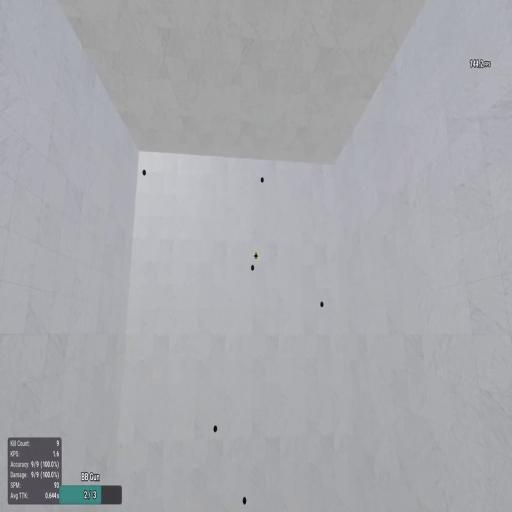Crosshair: (254, 252, 258, 260)
Target: (250, 264, 255, 272), (142, 168, 146, 177), (242, 497, 247, 504), (213, 425, 217, 433), (260, 176, 264, 183), (320, 301, 324, 307)
